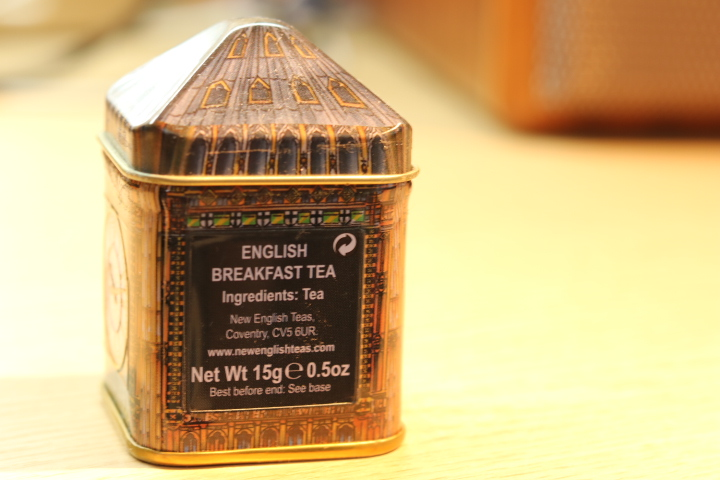Big Ben: (90, 4, 428, 476)
